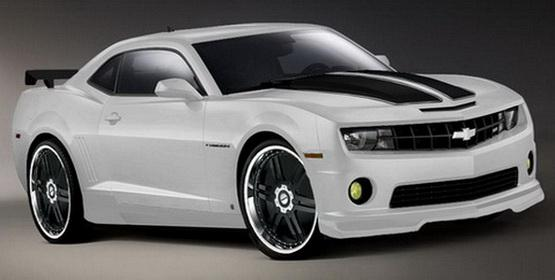small: (11, 19, 545, 260)
